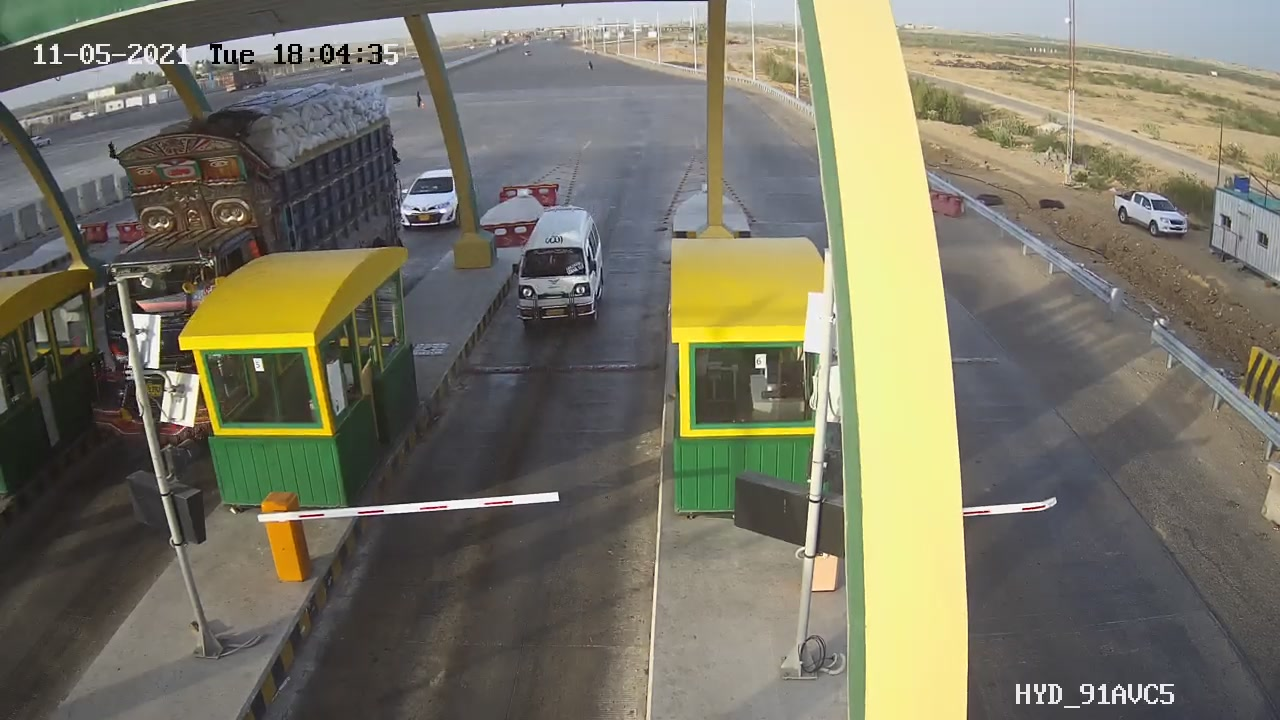F1: (487, 191, 635, 340)
